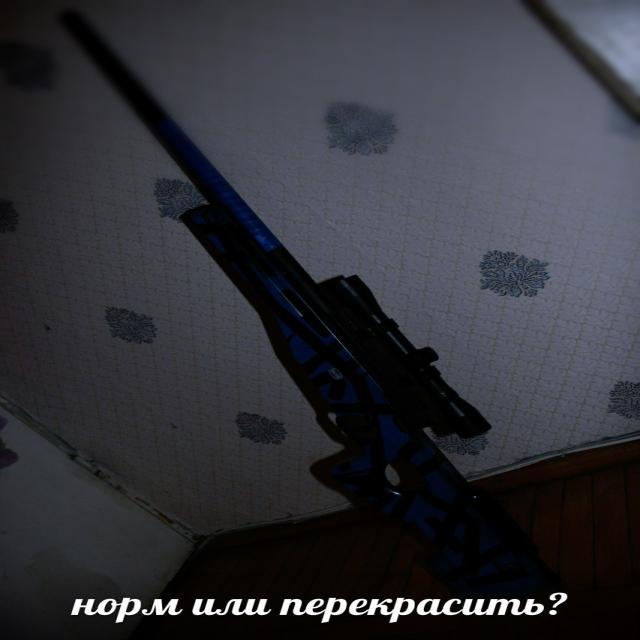firearm: (57, 11, 539, 588)
